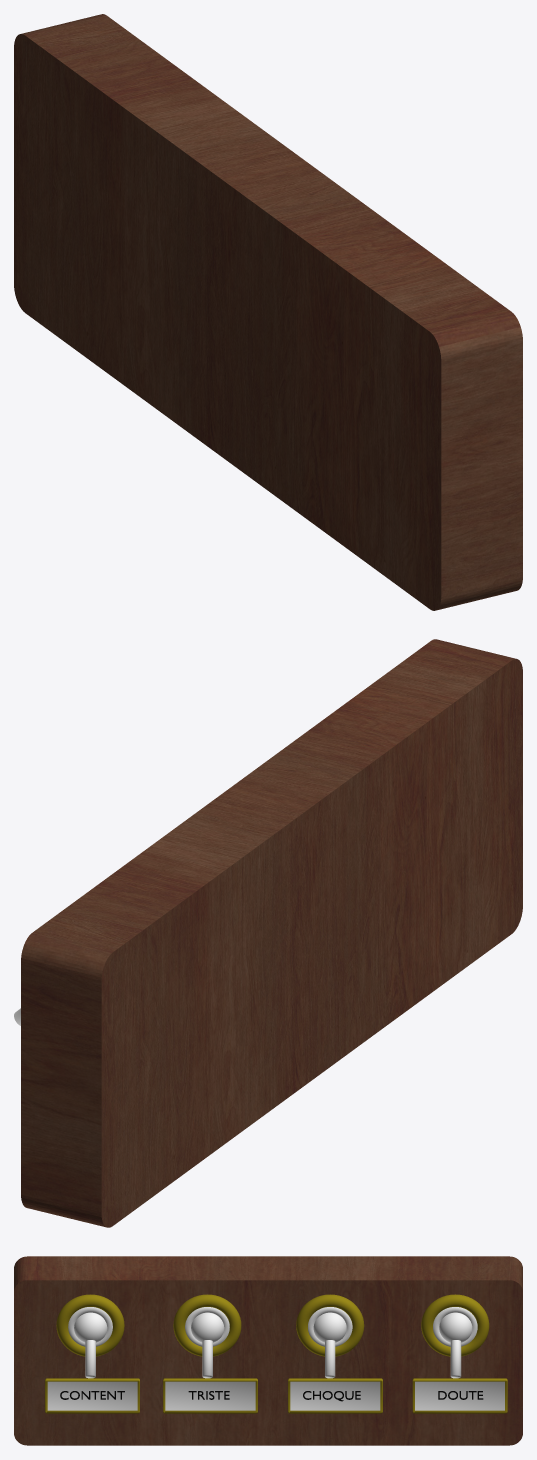
File: newswitched.gltf
The picture shows the model from 3 angles, top to bottom: view 1: azimuth 30°, elevation 25°; view 2: azimuth 150°, elevation 25°; view 3: azimuth 270°, elevation 25°; orthographic projection. The views are drawn at different scales.
Visible parts, largest first — view 1: Cube; view 2: Cube; view 3: Cube, Cube.004, Cube.002, Cube.003, Cube.001, Torus, Torus.002, Torus.006, Torus.004, Sphere, Sphere.001, Sphere.003 (+11 smaller).
Part boxes in pixels (<box>): Cube: <box>14,14,522,610</box>; Cube: <box>21,639,522,1227</box>; Cube: <box>14,1256,522,1445</box>; Cube.004: <box>412,1378,507,1413</box>; Cube.002: <box>163,1378,257,1413</box>; Cube.003: <box>288,1378,382,1413</box>; Cube.001: <box>45,1378,139,1413</box>; Torus: <box>56,1294,124,1356</box>; Torus.002: <box>173,1294,241,1356</box>; Torus.006: <box>421,1294,489,1356</box>; Torus.004: <box>296,1294,364,1356</box>; Sphere: <box>74,1312,107,1342</box>; Sphere.001: <box>191,1312,224,1342</box>; Sphere.003: <box>439,1312,472,1342</box>.
Size of the model in its own units: 3.56 by 6.58 by 18.35.
6 materials, 1 textured.
